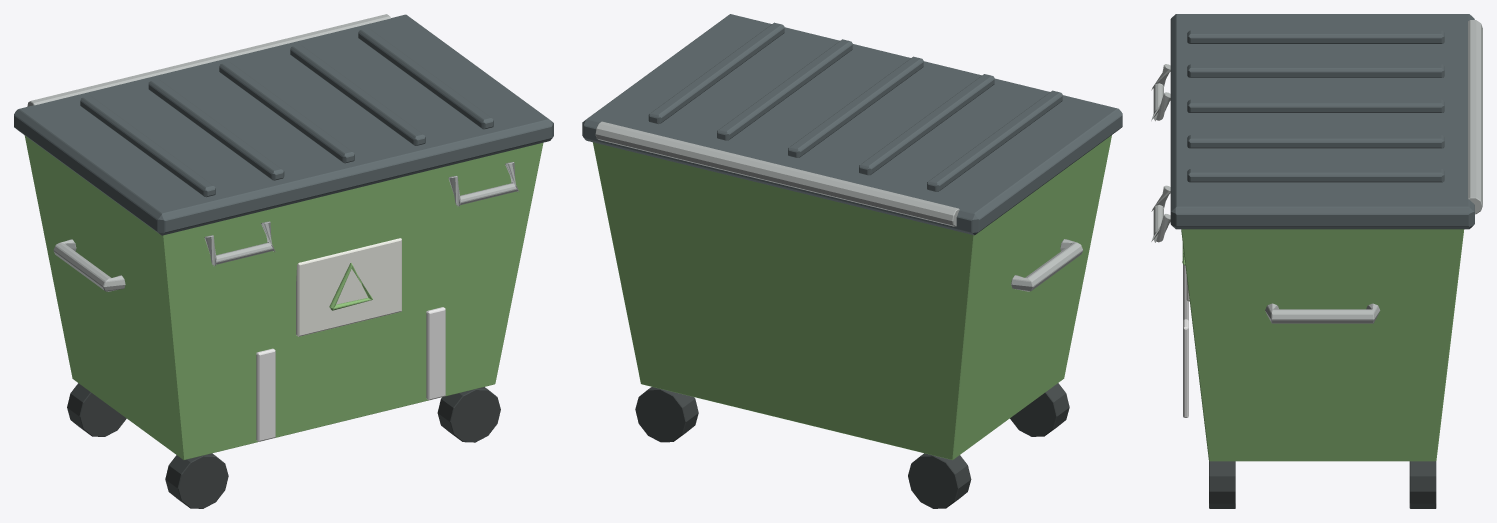
File: Trash_Dumpster.fbx
3 views of the same model, side by side, from view 1: azimuth 30°, elevation 25°; view 2: azimuth 150°, elevation 25°; view 3: azimuth 270°, elevation 25° (orthographic). The views are drawn at different scales.
Visible parts, largest first — view 1: Trash_Dumpster__LPCXFER; view 2: Trash_Dumpster__LPCXFER; view 3: Trash_Dumpster__LPCXFER.
Boxes of the visible parts, left/top/right/bottom form: Trash_Dumpster__LPCXFER: left=14, top=14, right=553, bottom=508; Trash_Dumpster__LPCXFER: left=582, top=14, right=1122, bottom=508; Trash_Dumpster__LPCXFER: left=1151, top=14, right=1482, bottom=508.
Bounding box in the file's own units: 145 × 111 × 99.21.
